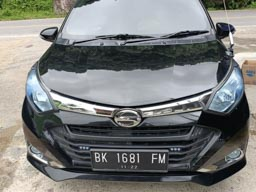plat: (90, 150, 168, 165)
